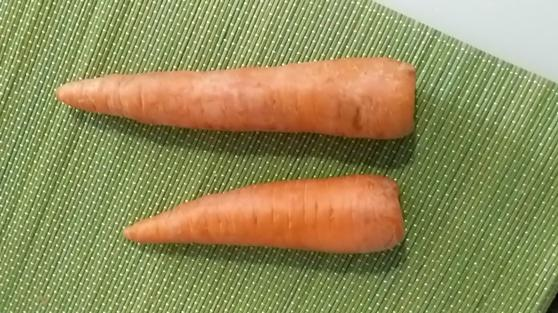carrot: (55, 54, 418, 140), (125, 174, 405, 259)
